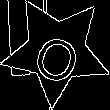O_NE: (27, 19, 86, 83)
